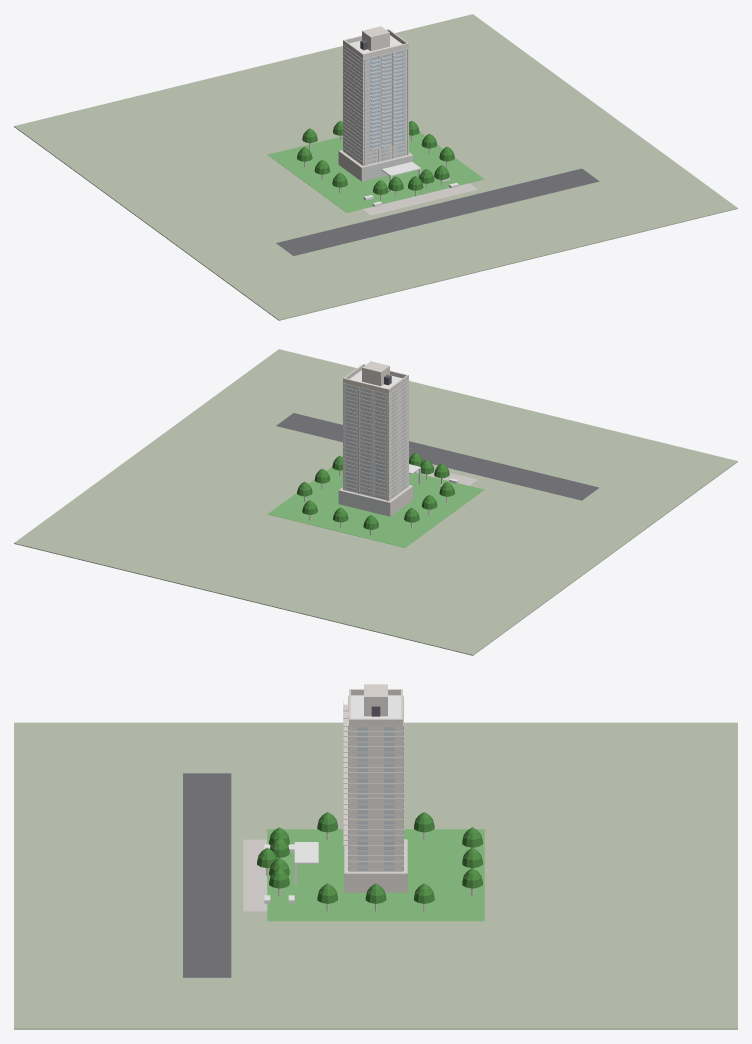
Rendered from building_custom.glb.
3 renders of one model, top to bottom at view 1: azimuth 30°, elevation 25°; view 2: azimuth 150°, elevation 25°; view 3: azimuth 270°, elevation 25°, orthographic. The views are drawn at different scales.
Parts seen in each view (by area): view 1: Ground, Grass, Road, TowerCore, Podium, PlazaGround, MechRoom; view 2: Ground, TowerCore, Grass, Road, Podium, LobbyGlass_B, MechRoom; view 3: Ground, Grass, Road, TowerCore, PlazaGround, Podium, RoofSlab, MechRoom.
Boxes of the visible parts, bbox=[...] form: Ground: bbox=[14, 14, 737, 320]; Grass: bbox=[267, 132, 484, 212]; Road: bbox=[276, 168, 599, 255]; TowerCore: bbox=[343, 45, 408, 165]; Podium: bbox=[338, 150, 413, 181]; PlazaGround: bbox=[362, 183, 477, 215]; MechRoom: bbox=[362, 26, 389, 51]; Ground: bbox=[14, 349, 737, 655]; TowerCore: bbox=[343, 380, 408, 500]; Grass: bbox=[267, 467, 484, 547]; Road: bbox=[276, 413, 598, 500]; Podium: bbox=[338, 485, 413, 516]; LobbyGlass_B: bbox=[338, 491, 389, 515]; MechRoom: bbox=[362, 361, 389, 386]; Ground: bbox=[14, 722, 737, 1029]; Grass: bbox=[267, 829, 484, 921]; Road: bbox=[183, 773, 231, 977]; TowerCore: bbox=[349, 726, 402, 871]; PlazaGround: bbox=[243, 839, 267, 911]; Podium: bbox=[344, 839, 407, 892]; RoofSlab: bbox=[351, 695, 400, 725]; MechRoom: bbox=[364, 684, 387, 716].
Size of the model in its own units: 120 by 34 by 120.
